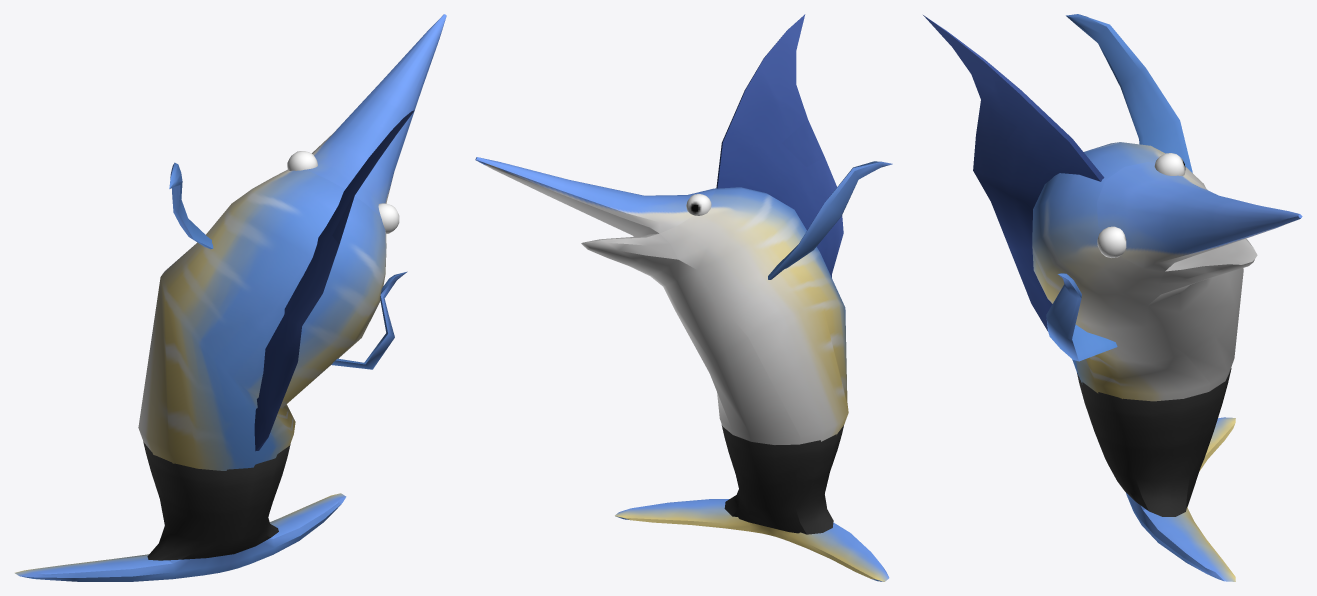
File: kajiki_attack_04.fbx
3 renders of one model, left to right at view 1: azimuth 30°, elevation 25°; view 2: azimuth 150°, elevation 25°; view 3: azimuth 270°, elevation 25°, orthographic. The views are drawn at different scales.
Visible parts, largest first — view 1: A_04; view 2: A_04; view 3: A_04.
Part boxes in pixels (<box>): A_04: <box>15,14,446,581</box>; A_04: <box>475,14,892,581</box>; A_04: <box>923,14,1302,581</box>.
Bounding box in the file's own units: 2.07 × 2.21 × 1.43.
1 material, 1 textured.
